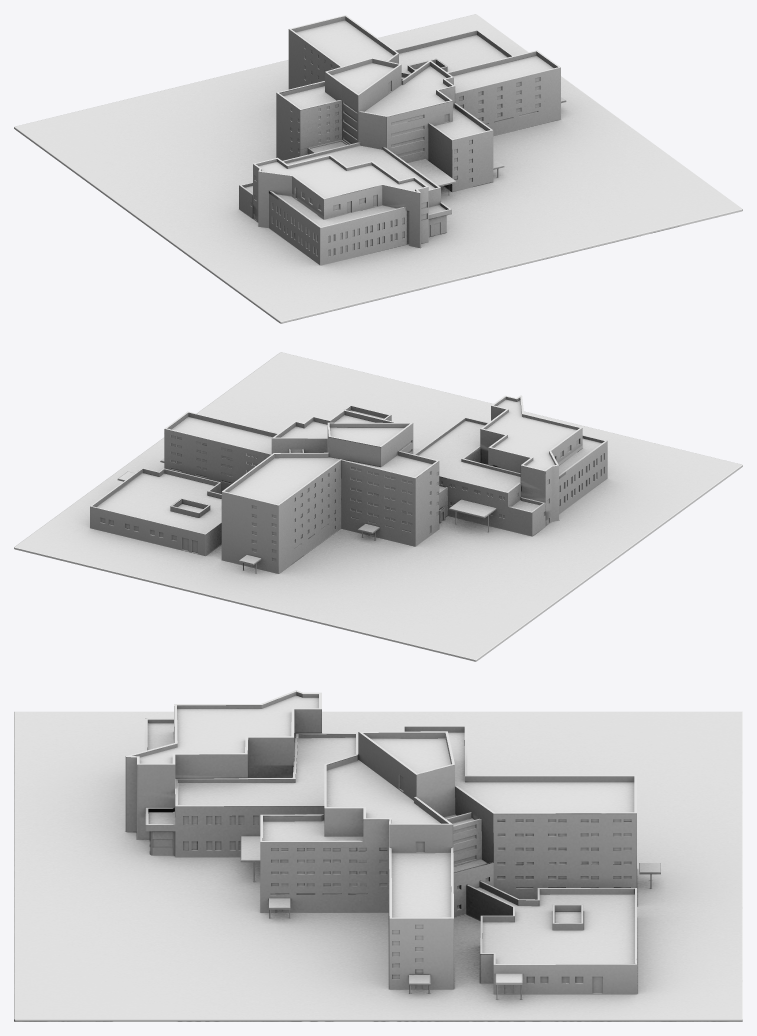
File: kavala_building28.glb
3 renders of one model, top to bottom at view 1: azimuth 30°, elevation 25°; view 2: azimuth 150°, elevation 25°; view 3: azimuth 270°, elevation 25°, orthographic. The views are drawn at different scales.
Visible parts, largest first — view 1: building10; view 2: building10; view 3: building10.
Part boxes in pixels (x1,y1,x2,y2): building10: (14, 14, 742, 323); building10: (14, 352, 742, 661); building10: (14, 690, 742, 1021).
Size of the model in its own units: 11.19 by 2 by 11.19.
1 material, 1 textured.
